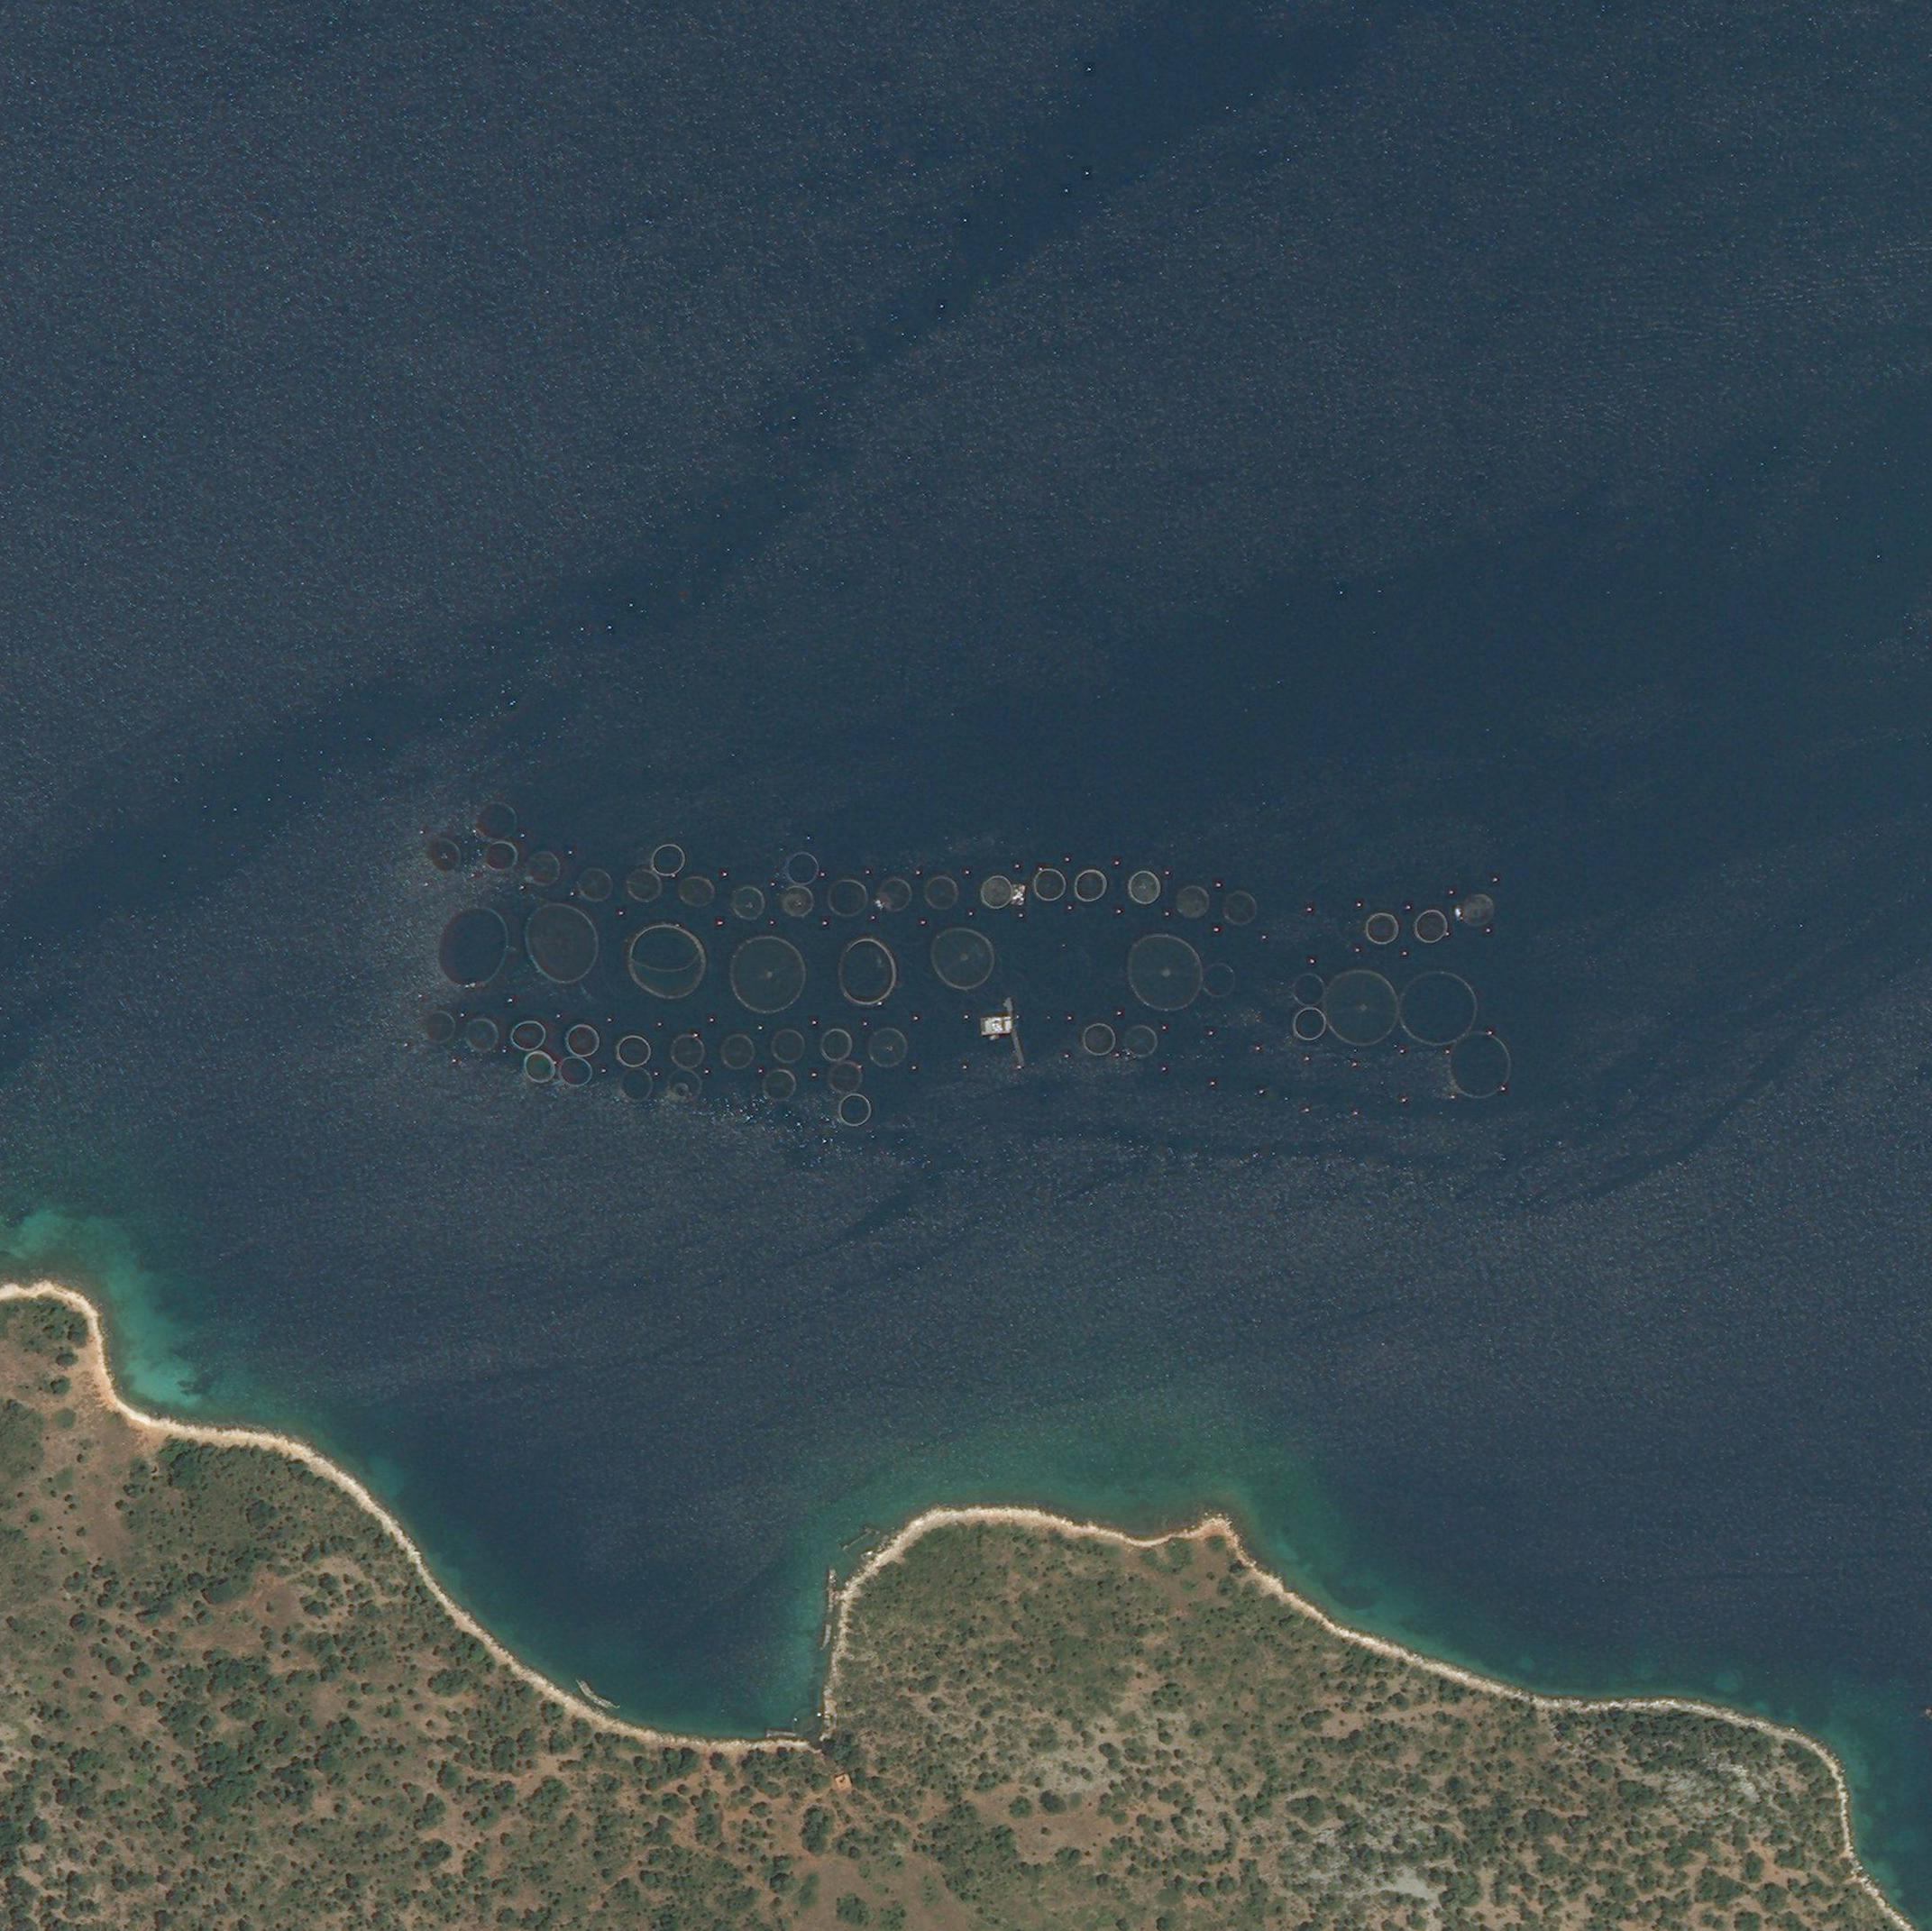c: (624, 920, 705, 999), (437, 904, 509, 990), (523, 902, 599, 983), (1126, 932, 1202, 1013), (726, 935, 804, 1013), (1400, 969, 1476, 1045), (1324, 969, 1396, 1047), (836, 937, 896, 1006), (1448, 1031, 1510, 1096), (930, 927, 993, 988), (475, 799, 520, 842), (825, 875, 870, 916), (866, 1026, 909, 1066), (424, 836, 463, 874), (574, 865, 613, 902), (626, 866, 663, 905), (523, 851, 560, 888), (1220, 888, 1255, 927), (421, 1010, 456, 1047), (1460, 891, 1495, 928), (463, 1017, 498, 1052), (1174, 882, 1209, 918), (1202, 962, 1237, 997), (1412, 907, 1448, 943), (649, 843, 686, 877), (728, 886, 765, 920), (721, 1033, 755, 1070), (979, 872, 1013, 909), (1126, 868, 1160, 905), (479, 840, 518, 872), (776, 886, 815, 918), (564, 1022, 599, 1056), (670, 1034, 704, 1070), (615, 1034, 650, 1068), (617, 1068, 652, 1102), (666, 1070, 702, 1103), (771, 1029, 804, 1065), (762, 1068, 797, 1102), (827, 1061, 863, 1095), (877, 877, 912, 911), (924, 874, 958, 909), (1080, 1022, 1115, 1056), (679, 875, 716, 907), (509, 1019, 546, 1050), (785, 851, 818, 884), (1032, 868, 1066, 902), (1290, 973, 1324, 1006), (1292, 1006, 1326, 1040), (1121, 1024, 1156, 1056), (559, 1056, 592, 1088), (838, 1093, 870, 1126), (1075, 868, 1107, 902), (1365, 911, 1398, 943), (525, 1049, 555, 1084), (820, 1029, 850, 1063)
